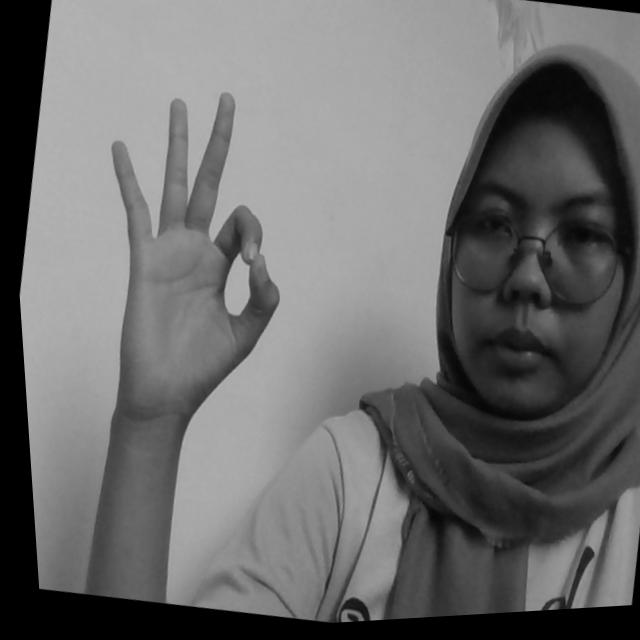F: (57, 71, 320, 439)
